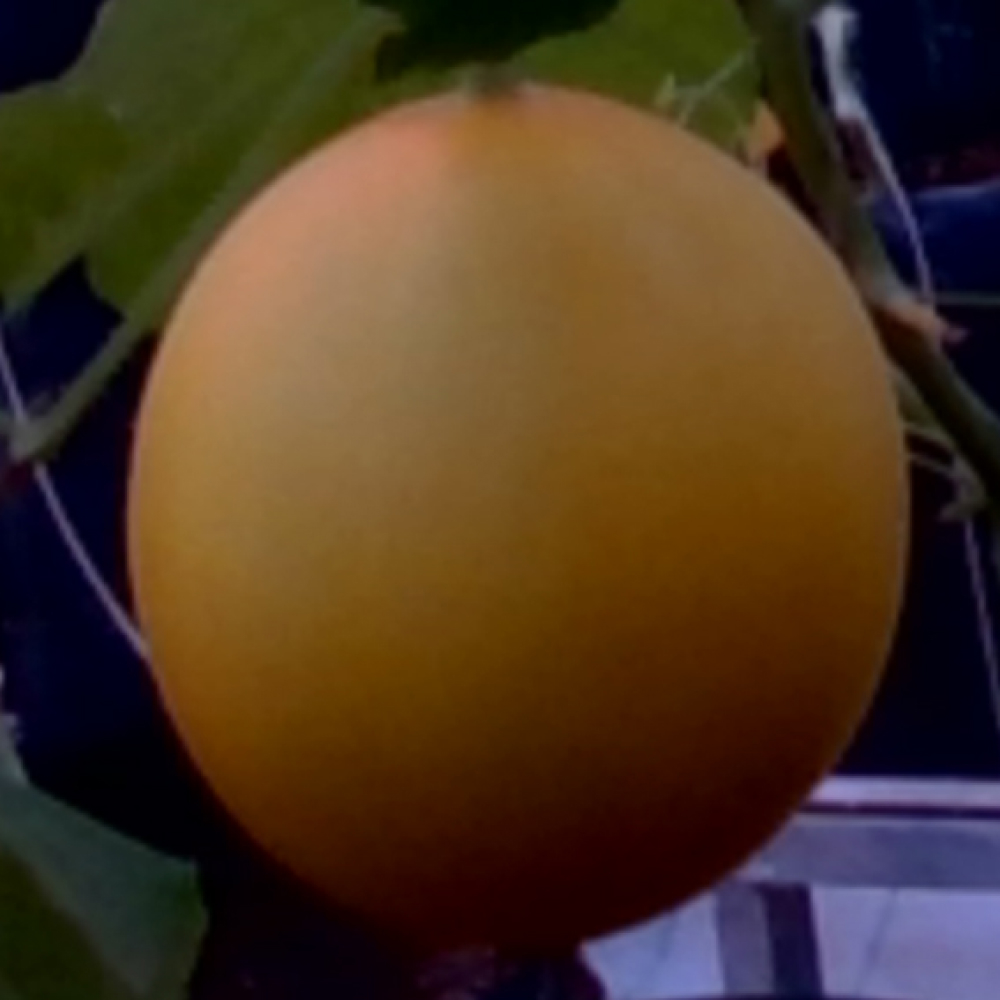melon: (122, 83, 913, 950)
